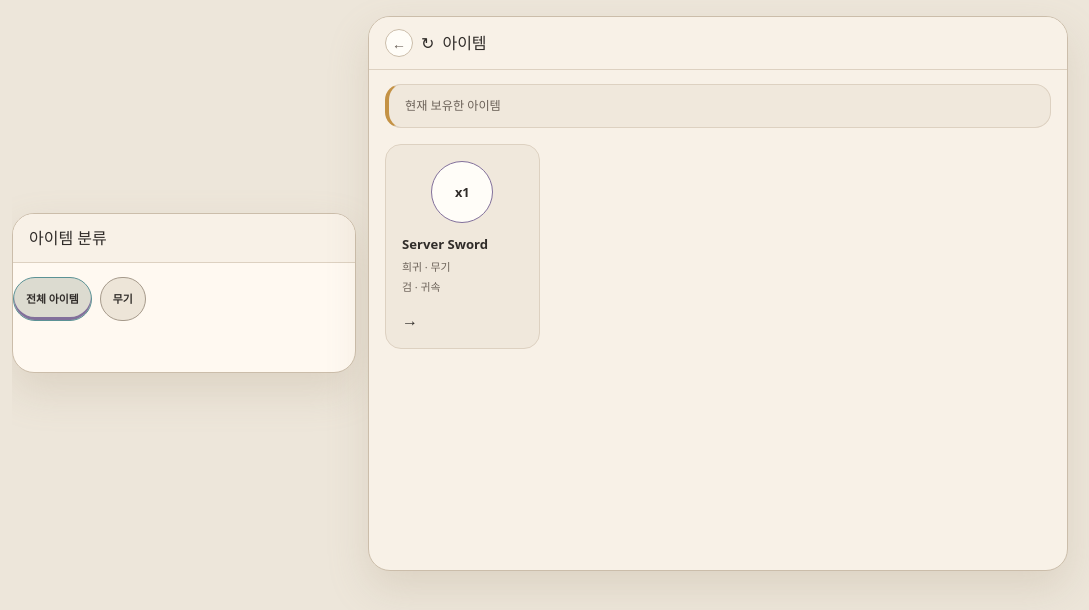
Test case: Inventory Items와 Inbox surface를 사용할 때 › Items를 조회하고 itemInstanceId로 선택하면 › existing Items 재조회 실패 시 이전 값을 명시하고 Retry로 복구한다
Expected: the button "x1 Server Sword 희귀 · 무기 검 · 귀속 →" is shown, [385, 144, 540, 348]
Click the button named "목록 새로고침".
click(428, 42)  # box [421, 30, 434, 54]
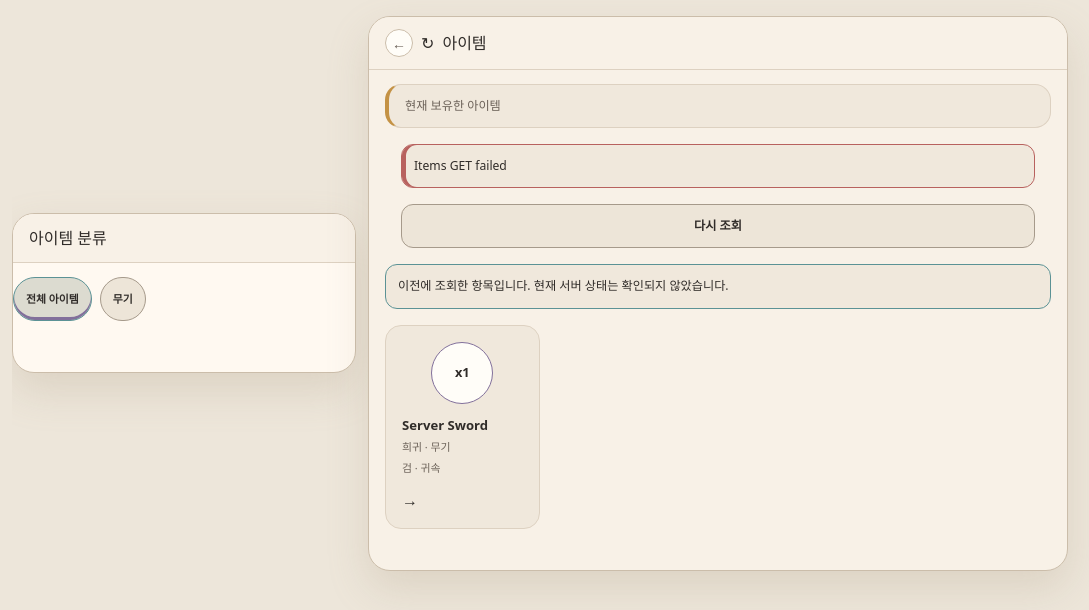
Expected: the button "x1 Server Sword 희귀 · 무기 검 · 귀속 →" is shown, [385, 324, 540, 528]
Expected: the text "이전에 조회한 항목입니다. 현재 서버 상태는 확인되지 않았습니다." is shown, [385, 264, 1051, 308]
Click the button "다시 조회".
click(718, 226)  # box [401, 204, 1035, 248]
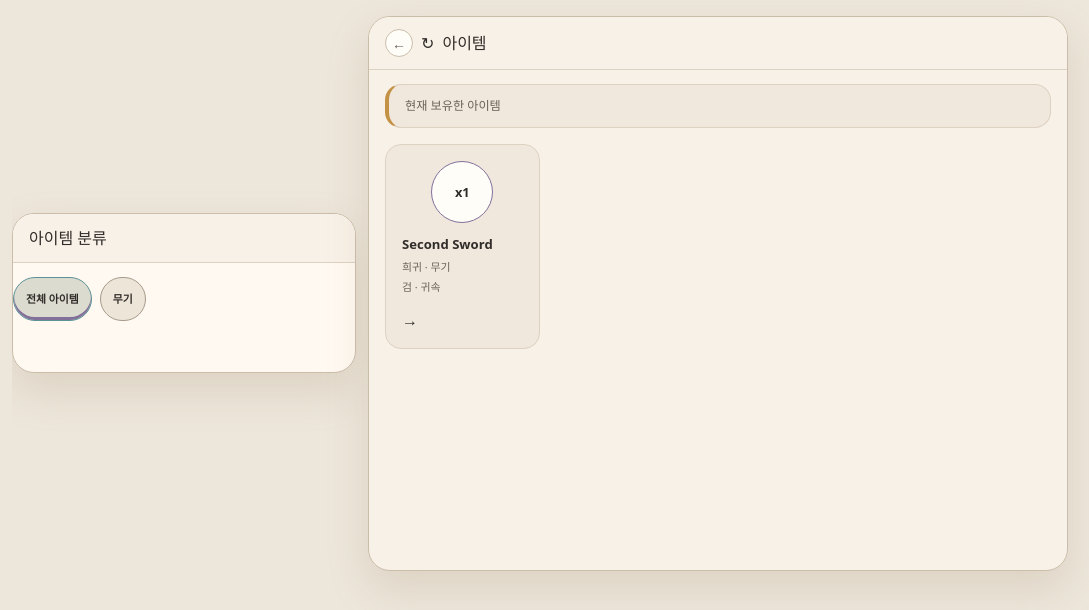
Expected: the button "x1 Second Sword 희귀 · 무기 검 · 귀속 →" is shown, [385, 144, 540, 348]
